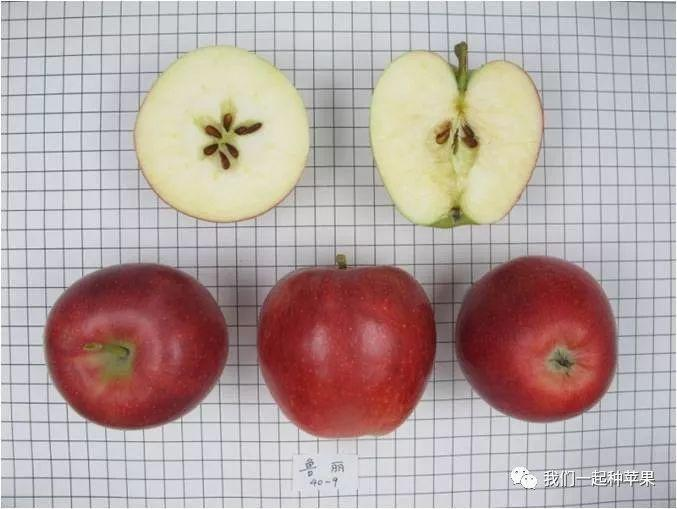apple: (131, 42, 313, 225), (39, 261, 229, 436), (367, 41, 543, 229), (251, 267, 435, 445), (450, 257, 619, 427)
